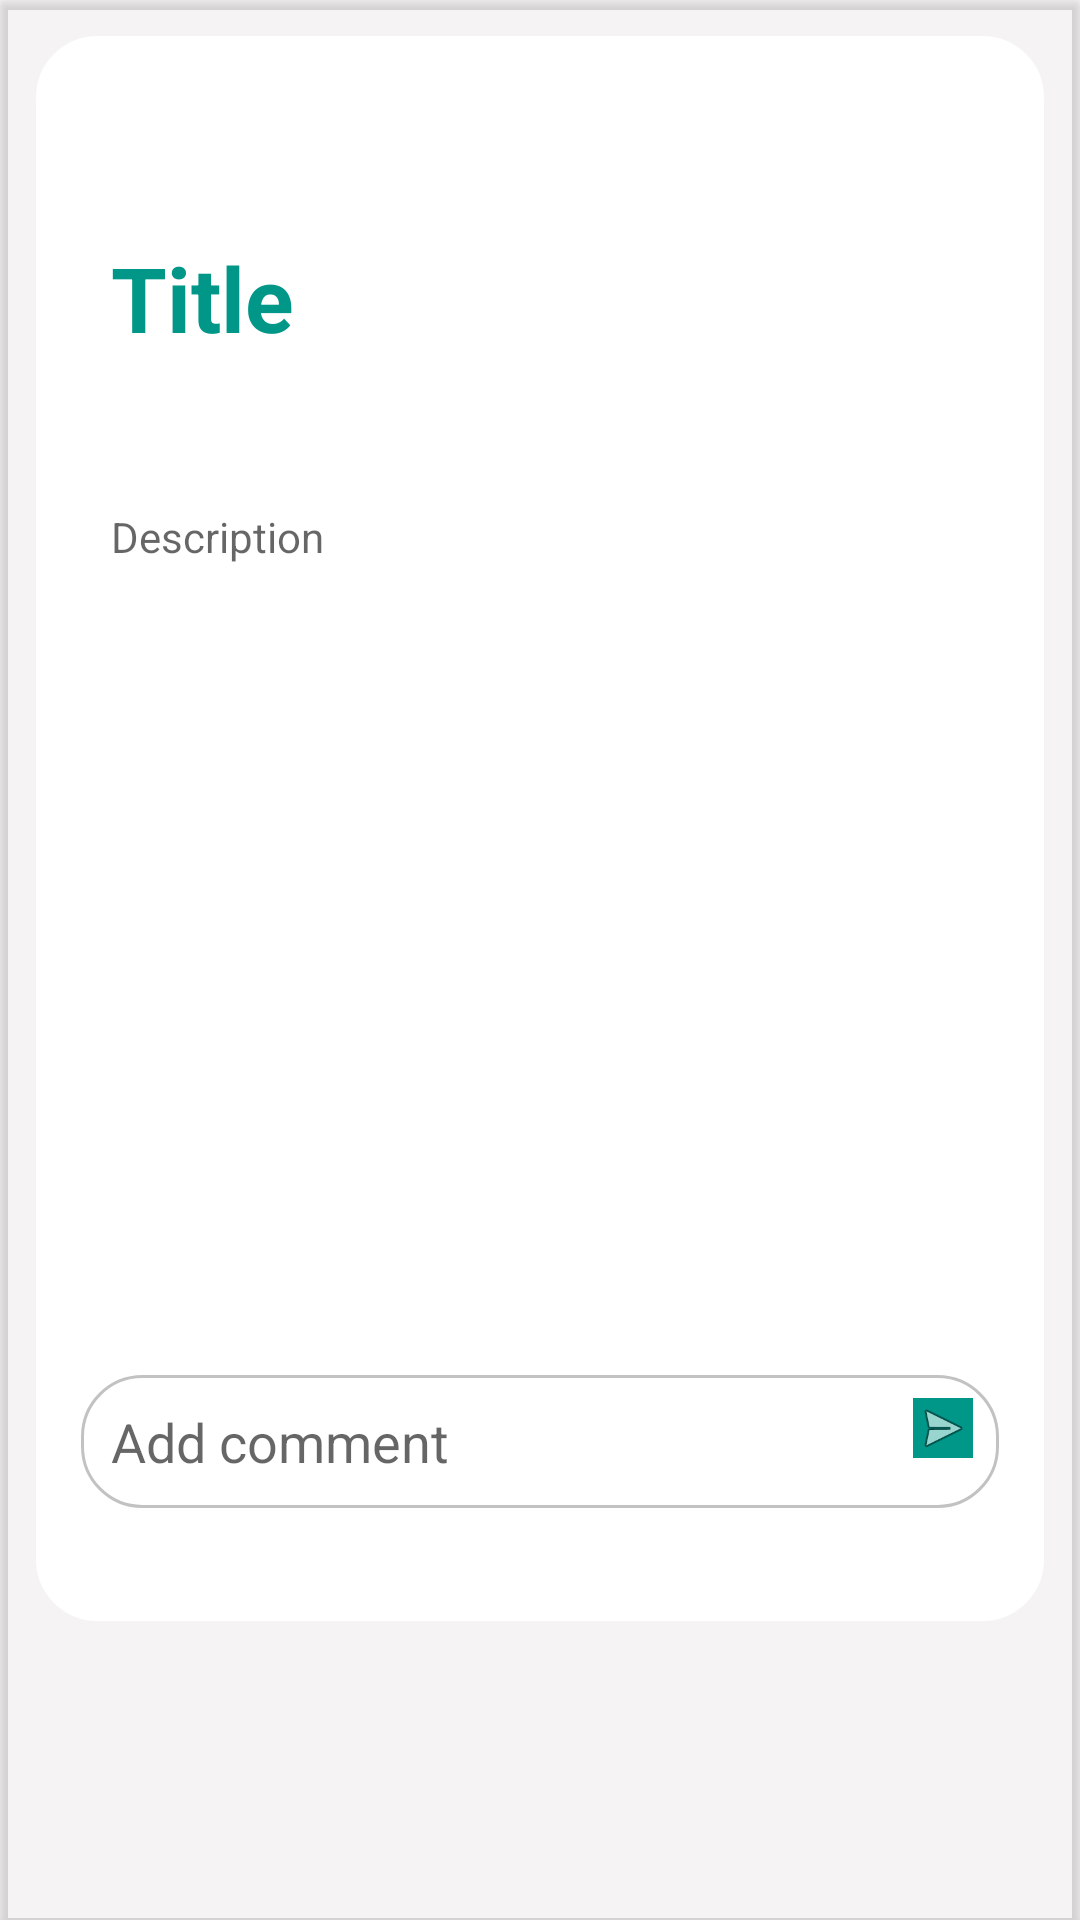

Icon bounding boxes for this 1080*1920 phone screenshot, format (x1=x1, y1=y1, x2=x2, y2=y2):
send: (x1=913, y1=1398, x2=973, y2=1458)
